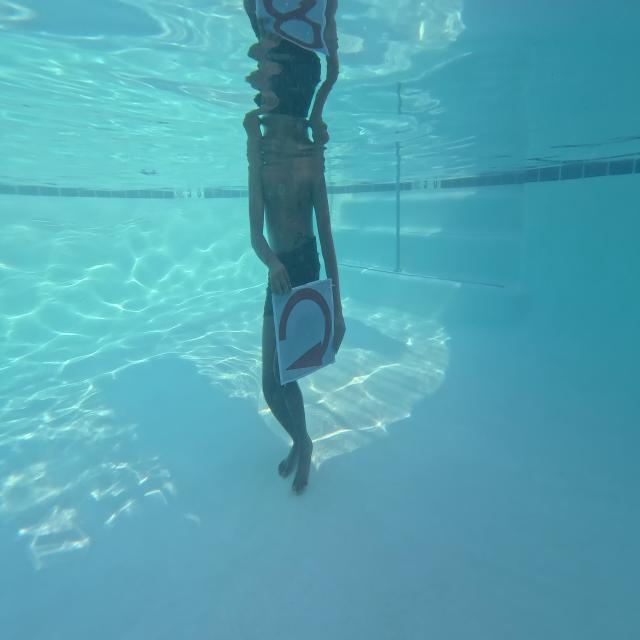red_side: (273, 282, 337, 376)
